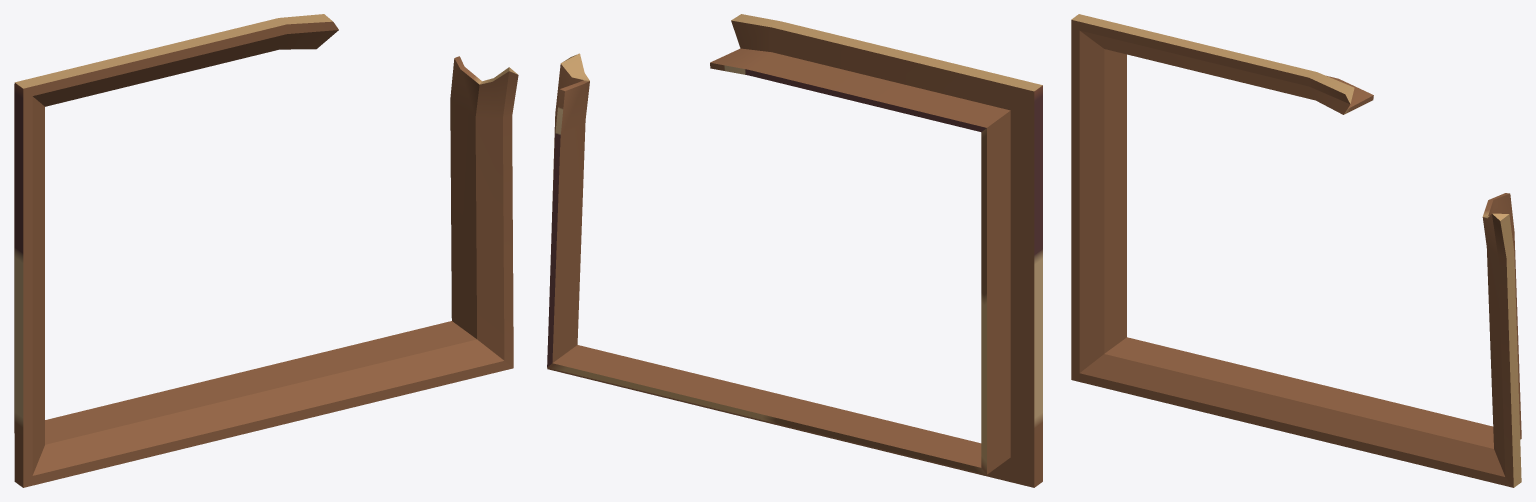
Rendered from DBK_WinWide_Trim_C_90.fbx.
3 views of the same model, side by side, from view 1: azimuth 30°, elevation 25°; view 2: azimuth 150°, elevation 25°; view 3: azimuth 330°, elevation 25° (orthographic). The views are drawn at different scales.
Parts seen in each view (by area): view 1: DBK_WinWide_Trim_C_90; view 2: DBK_WinWide_Trim_C_90; view 3: DBK_WinWide_Trim_C_90.
Boxes of the visible parts, bbox=[...] form: DBK_WinWide_Trim_C_90: bbox=[14, 14, 518, 487]; DBK_WinWide_Trim_C_90: bbox=[547, 14, 1042, 487]; DBK_WinWide_Trim_C_90: bbox=[1071, 14, 1521, 487].
Bounding box in the file's own units: 180 × 140 × 27.05.
